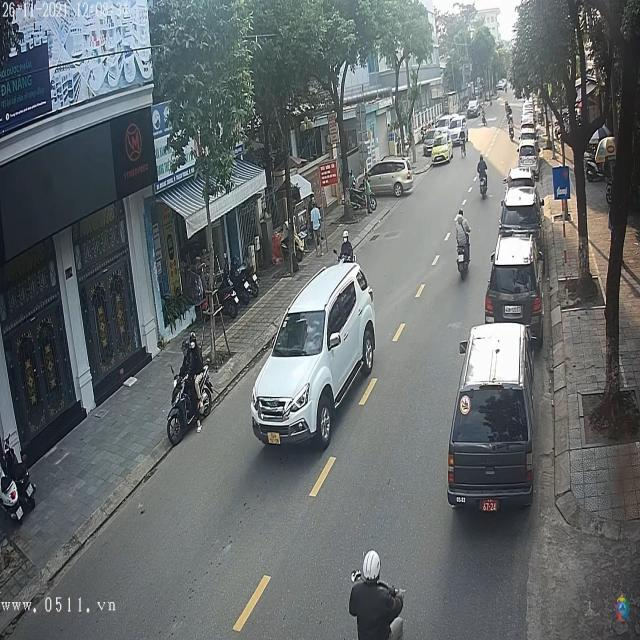car: (250, 261, 377, 452), (449, 328, 534, 511), (484, 238, 543, 332), (499, 188, 543, 235), (367, 158, 416, 197), (505, 169, 534, 190), (467, 98, 482, 118)
motorcycle: (165, 366, 217, 452), (456, 213, 472, 280), (478, 165, 490, 202)
